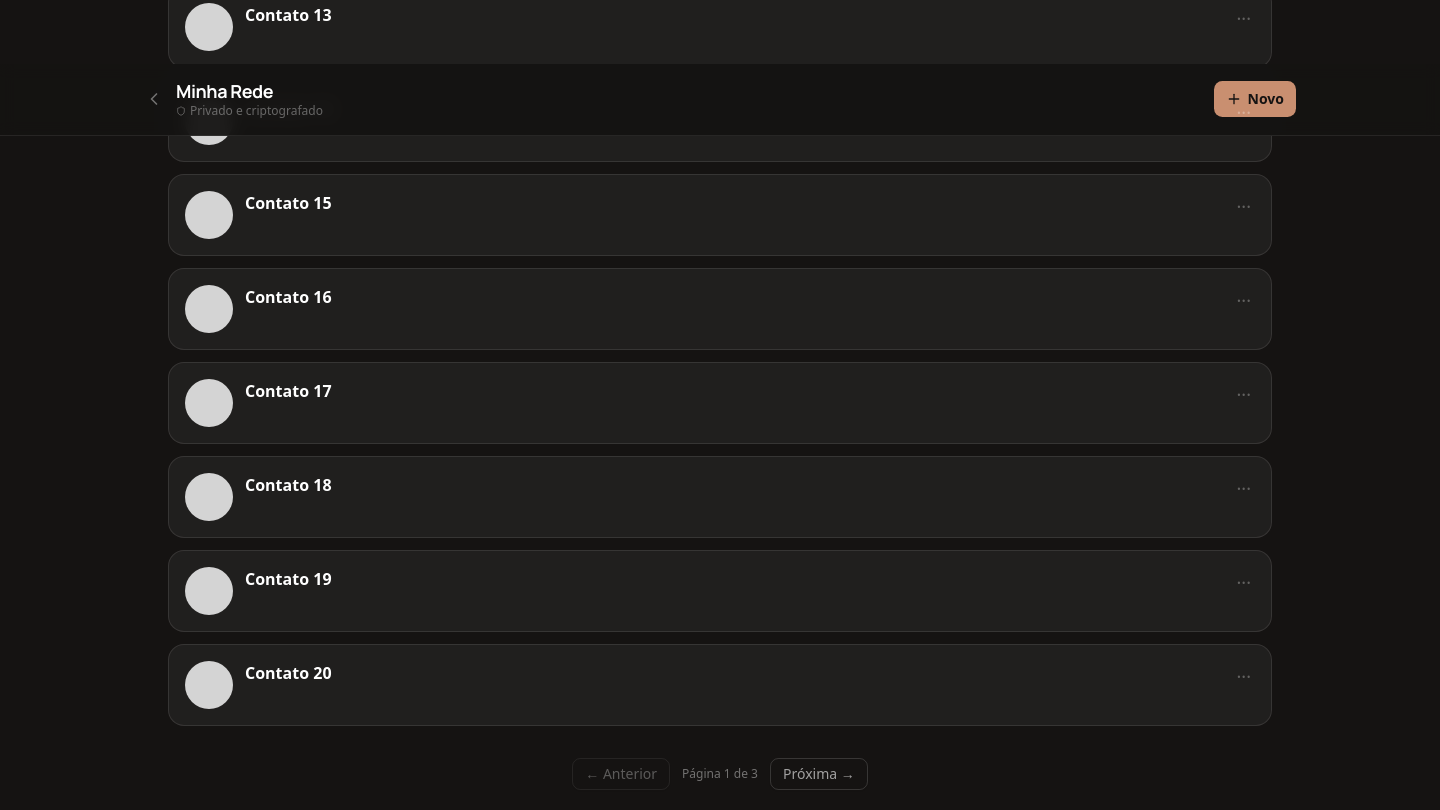
Scenario: Minha Rede — página que deixou de existir volta para a ÚLTIMA que existe › 41 contatos, o único da página 3 é excluído: a consulta seguinte pede a página 2 (não a 1) e 'Contato 21' aparece
(page scrolled)
Click the button "Próxima →" at (819, 774), box left=770, top=758, right=868, bottom=790
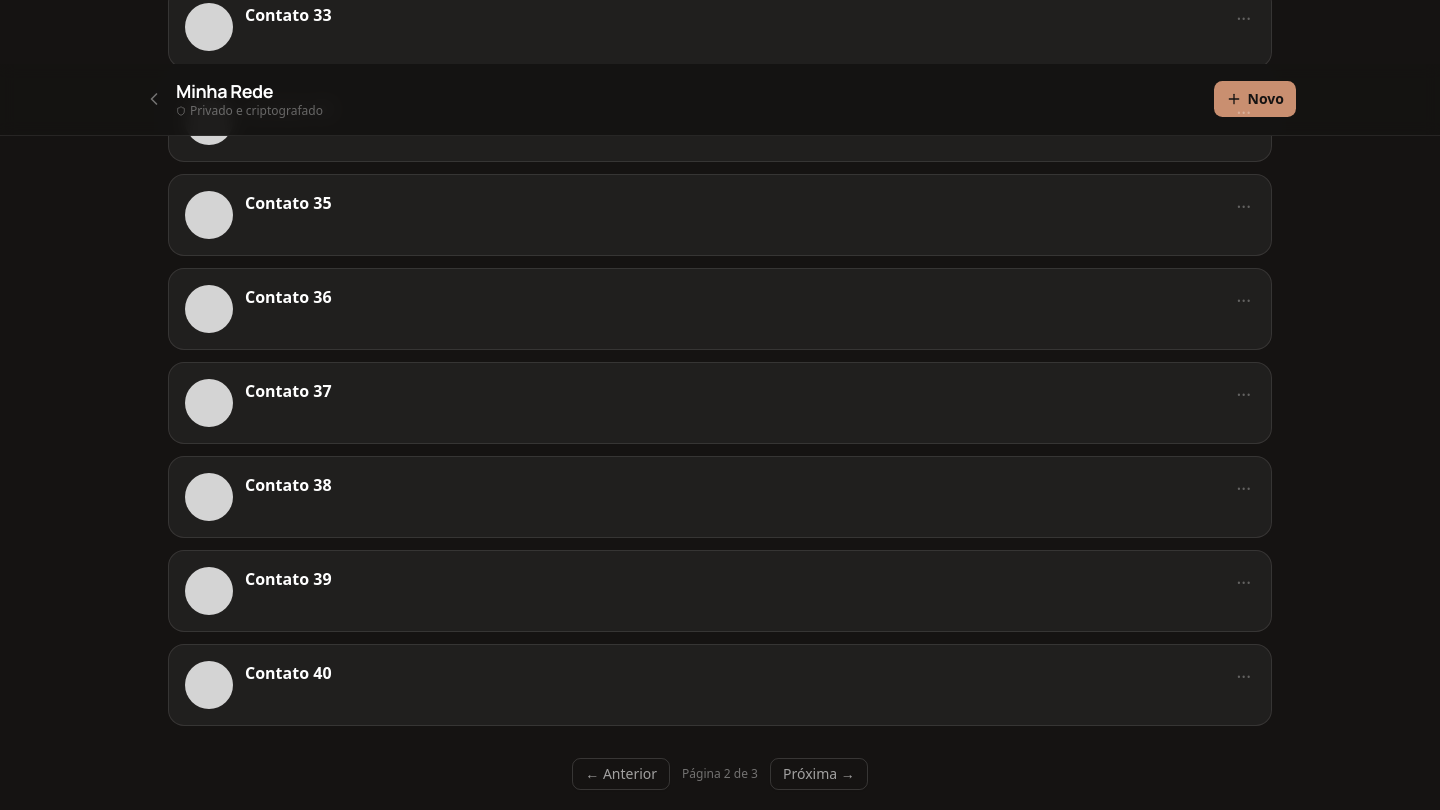
Click the button "Próxima →" at (819, 774), box left=770, top=758, right=868, bottom=790
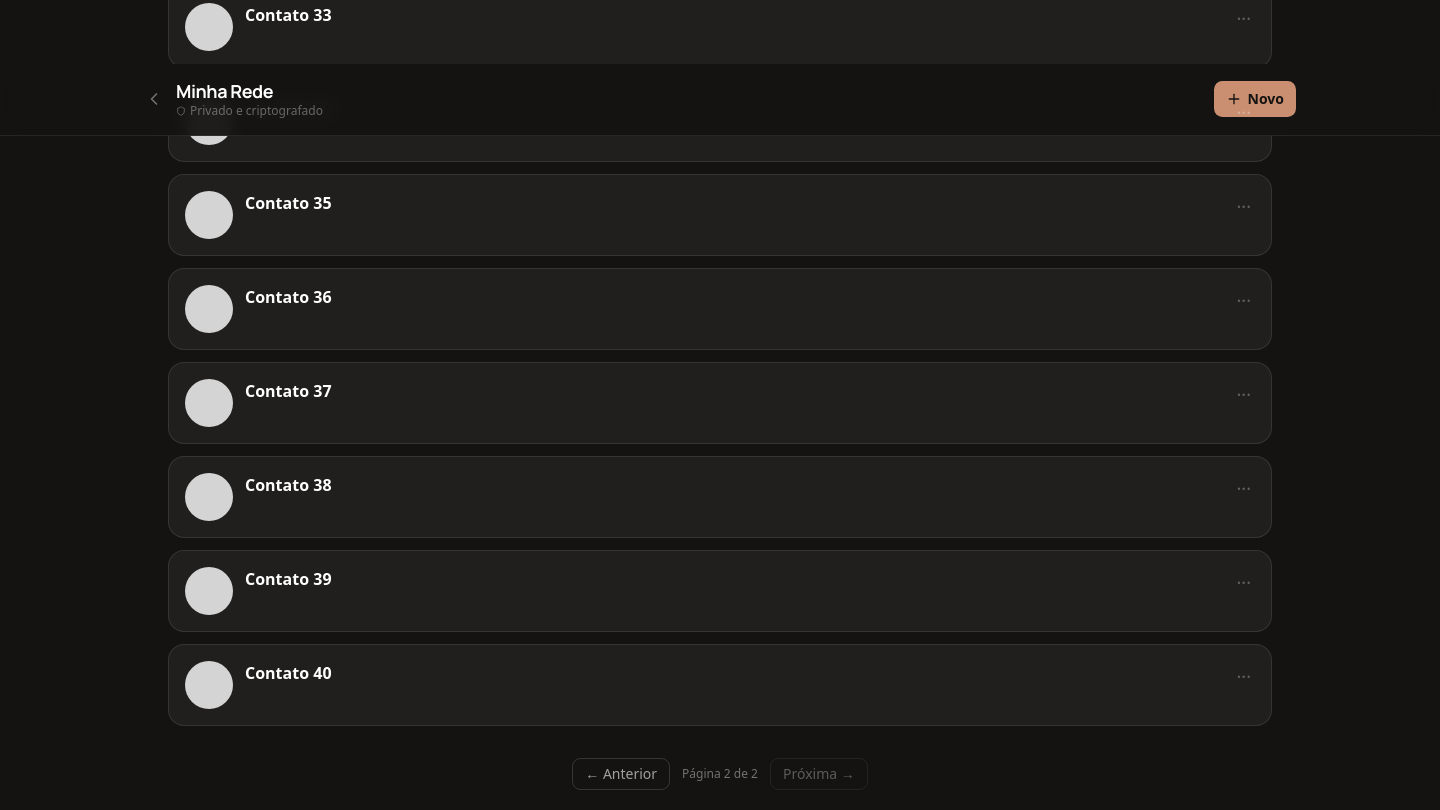
Check: the text "Contato 1" is not shown
Check: the text "Página 2 de 2" is shown, box left=682, top=766, right=758, bottom=782
